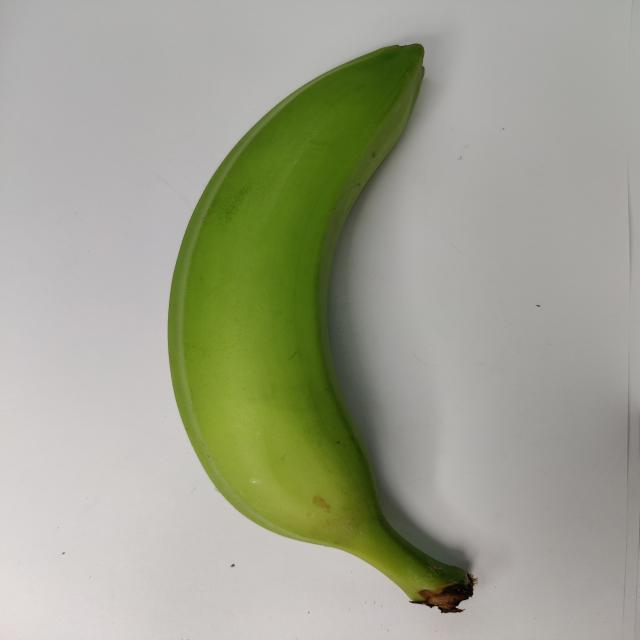raw: (143, 15, 552, 616)
